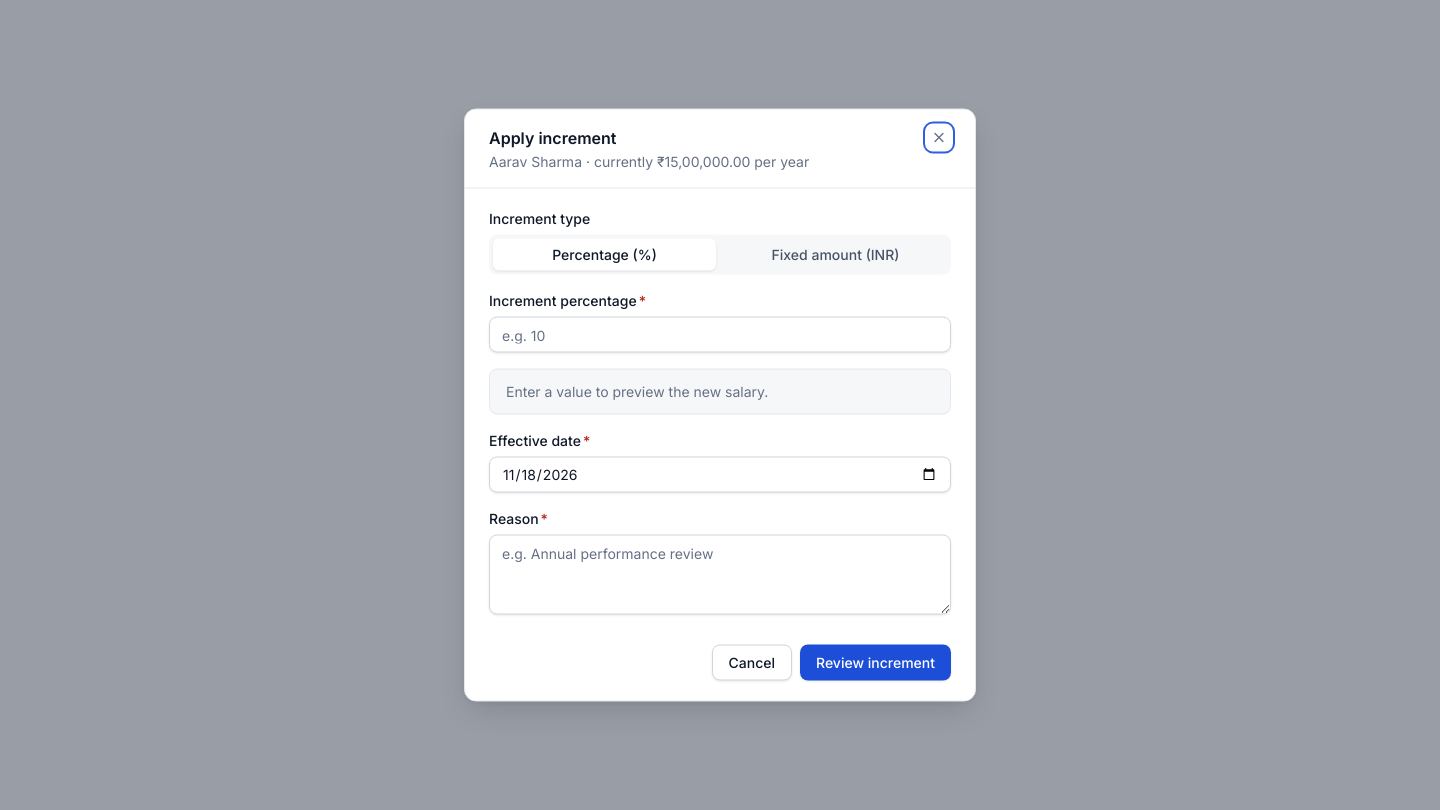
IncrementDialog › previews a 10% increment on INR 1,500,000 as INR 1,650,000
Expected: the text "Enter a value to preview the new salary." is shown, top-left (506, 382), bottom-right (768, 400)
Type "10" into the field labelled "Increment percentage*". click: [720, 334]
box: top-left (489, 316), bottom-right (951, 352)
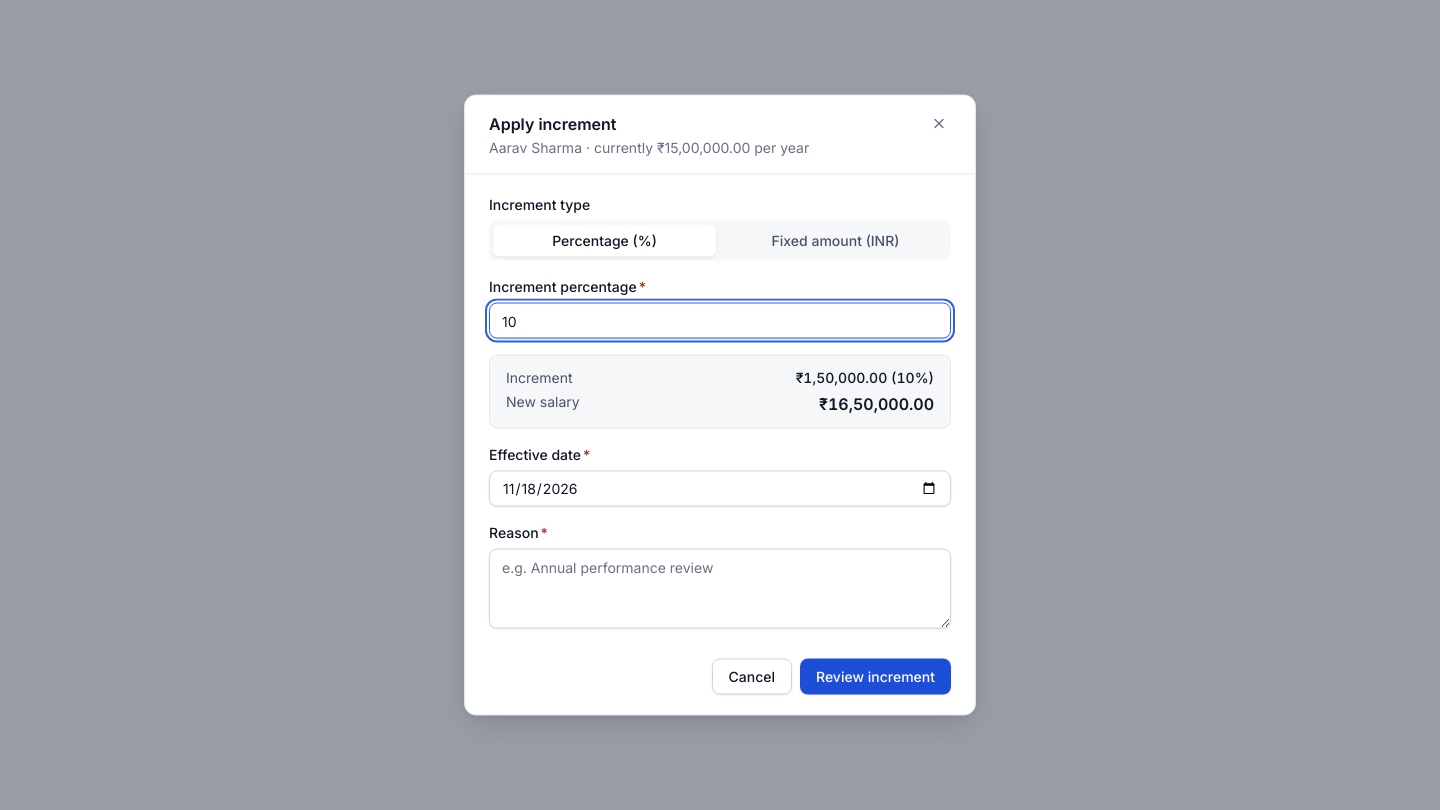
Result: the text with test id "new-salary" reads "₹16,50,000.00" at top-left (819, 394), bottom-right (934, 414)
Result: the text "₹1,50,000.00 (10%)" is shown at top-left (796, 368), bottom-right (934, 386)
